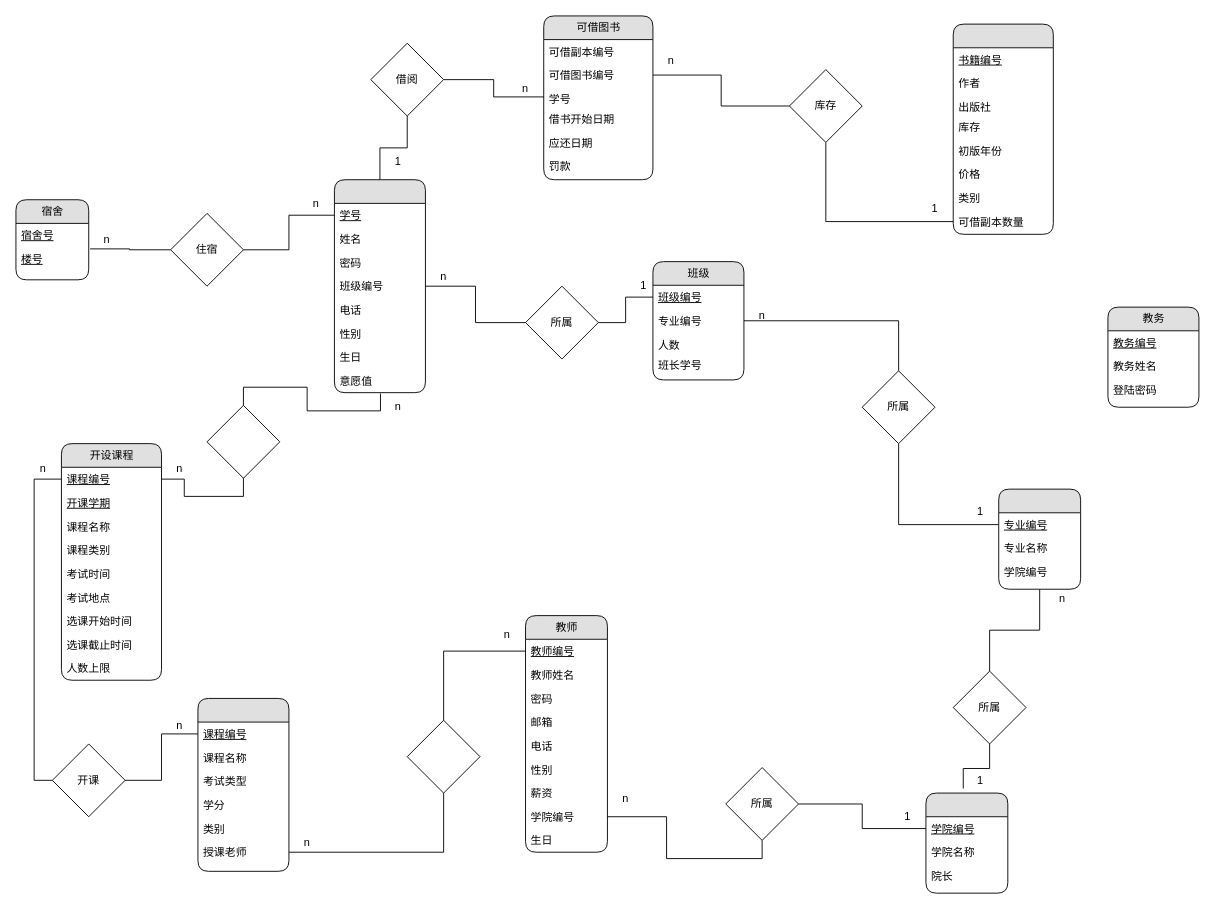
The diagram is 1215 pixels wide and 909 high, and some of its shapes have lost their labels. Here are the shapes that lost their labels. From the top down, the box of each, then its label:
(952, 23, 1053, 234): 书籍
(334, 179, 425, 393): 学生
(206, 404, 280, 478): 选课
(998, 488, 1081, 589): 专业
(406, 719, 480, 793): 教授
(197, 698, 289, 871): 课程
(925, 792, 1008, 893): 学院
